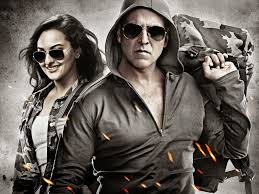Bad: (15, 1, 245, 193)
